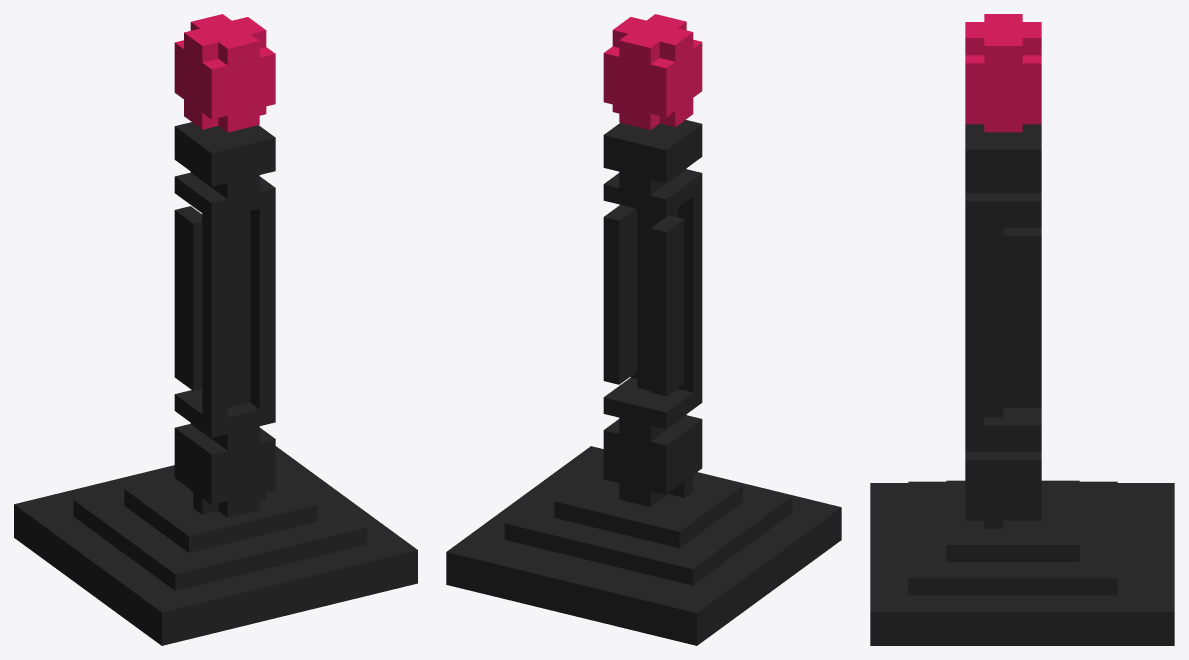
Rendered from turret1.obj.
The picture shows the model from 3 angles, left to right: view 1: azimuth 30°, elevation 25°; view 2: azimuth 150°, elevation 25°; view 3: azimuth 270°, elevation 25°; orthographic projection. The views are drawn at different scales.
Bounding box in the file's own units: 16 × 32 × 16.
Materials: 1 (1 with a texture image).
